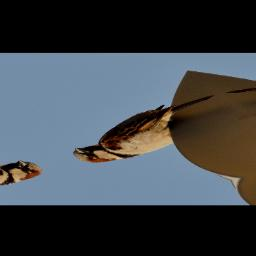Swallow: (41, 94, 256, 167)
